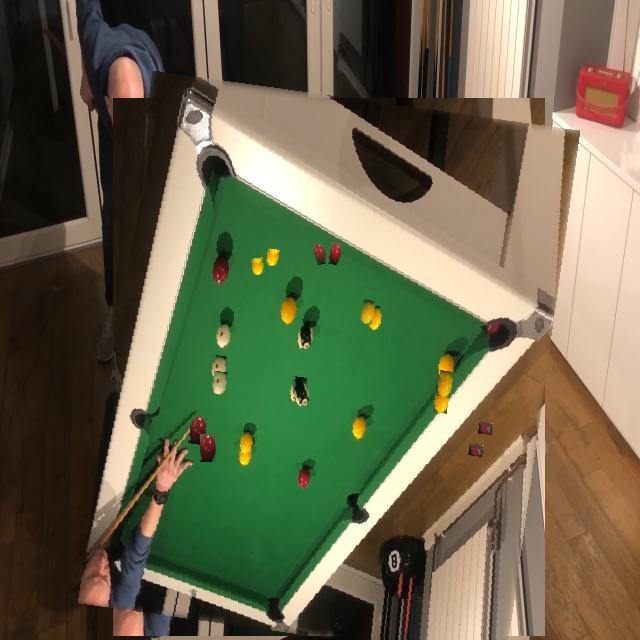Ball: (273, 404, 290, 432), (200, 434, 216, 462), (437, 370, 453, 398), (293, 381, 310, 407), (212, 371, 228, 396), (360, 300, 375, 324), (251, 270, 264, 292), (313, 243, 326, 265), (251, 258, 265, 275), (479, 423, 493, 435)
Billiard table: (95, 84, 562, 640)
